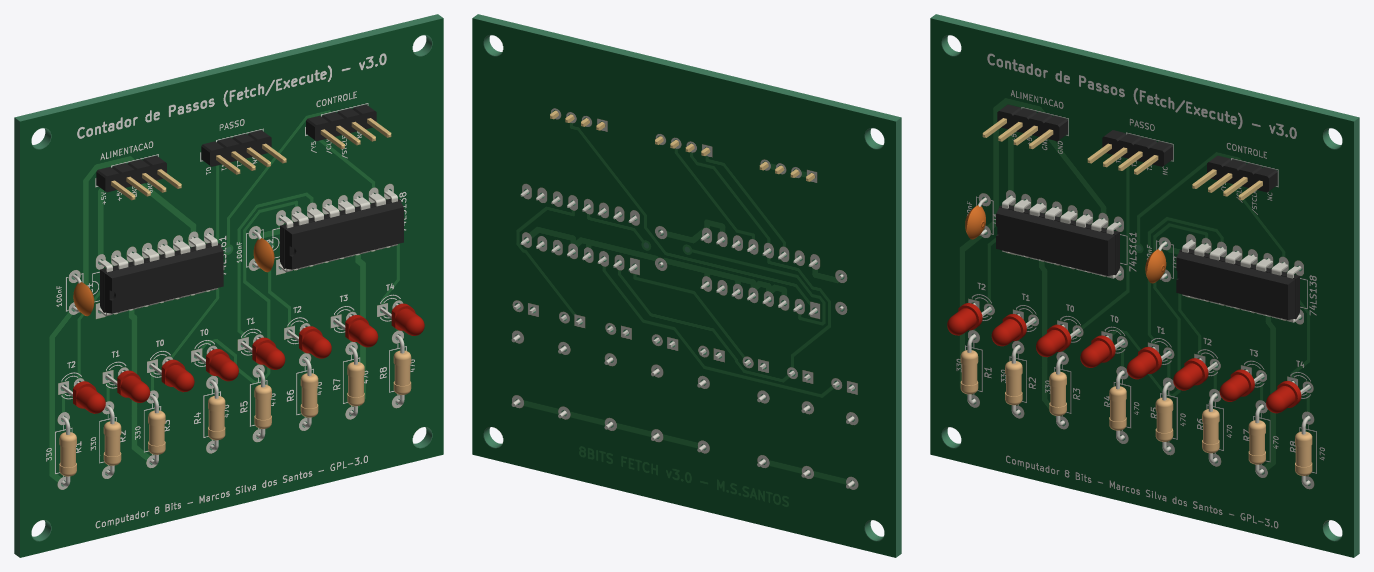
File: fetch-contador-passos.glb
3 views of the same model, side by side, from view 1: azimuth 30°, elevation 25°; view 2: azimuth 150°, elevation 25°; view 3: azimuth 330°, elevation 25° (orthographic).
Visible parts, largest first — view 1: superficie_topo, =>[0:1:1:12], =>[0:1:1:7]_1_030c31, =>[0:1:1:7]_baf5d5, =>[0:1:1:11]_1_6f1c76, =>[0:1:1:11]_2_b0022c, =>[0:1:1:11]_9b5e17, =>[0:1:1:7]_1_a382c8, =>[0:1:1:7]_8a85b2, =>[0:1:1:9]_4_c5b7cd, =>[0:1:1:9]_1_10e259, =>[0:1:1:9] (+18 smaller); view 2: superficie_fundo, =>[0:1:1:12], =>[0:1:1:7]_1_a382c8, =>[0:1:1:7]_8a85b2; view 3: superficie_topo, =>[0:1:1:12], =>[0:1:1:7]_1_030c31, =>[0:1:1:7]_baf5d5, =>[0:1:1:11]_2_b0022c, =>[0:1:1:11]_9b5e17, =>[0:1:1:11]_1_6f1c76, =>[0:1:1:7]_8a85b2, =>[0:1:1:7]_1_a382c8, =>[0:1:1:9]_2_ded9fe, =>[0:1:1:9]_6_1ccab7, =>[0:1:1:9]_5_a0945e (+18 smaller).
Boxes of the visible parts, x1,y1,x2,y2 form: superficie_topo: (20, 18, 443, 557); =>[0:1:1:12]: (14, 14, 443, 557); =>[0:1:1:7]_1_030c31: (100, 242, 223, 313); =>[0:1:1:7]_baf5d5: (280, 198, 403, 269); =>[0:1:1:11]_1_6f1c76: (96, 155, 166, 192); =>[0:1:1:11]_2_b0022c: (201, 130, 271, 166); =>[0:1:1:11]_9b5e17: (306, 104, 376, 141); =>[0:1:1:7]_1_a382c8: (98, 233, 217, 316); =>[0:1:1:7]_8a85b2: (278, 189, 397, 272); =>[0:1:1:9]_4_c5b7cd: (161, 359, 194, 392); =>[0:1:1:9]_1_10e259: (391, 303, 424, 335); =>[0:1:1:9]: (252, 337, 285, 369); superficie_fundo: (472, 18, 895, 557); =>[0:1:1:12]: (472, 14, 901, 557); =>[0:1:1:7]_1_a382c8: (700, 233, 817, 315); =>[0:1:1:7]_8a85b2: (520, 189, 637, 271); superficie_topo: (930, 18, 1353, 557); =>[0:1:1:12]: (930, 14, 1359, 557); =>[0:1:1:7]_1_030c31: (996, 205, 1119, 275); =>[0:1:1:7]_baf5d5: (1176, 249, 1299, 319); =>[0:1:1:11]_2_b0022c: (1102, 130, 1172, 166); =>[0:1:1:11]_9b5e17: (1207, 155, 1277, 192); =>[0:1:1:11]_1_6f1c76: (997, 104, 1067, 141); =>[0:1:1:7]_8a85b2: (1182, 239, 1301, 322); =>[0:1:1:7]_1_a382c8: (1002, 195, 1121, 278); =>[0:1:1:9]_2_ded9fe: (1080, 335, 1115, 367); =>[0:1:1:9]_6_1ccab7: (947, 303, 982, 335); =>[0:1:1:9]_5_a0945e: (1173, 358, 1208, 390).
Bounding box in the file's own units: 0.0697 × 0.0686 × 0.0118.
Materials: 8 (2 with a texture image).
